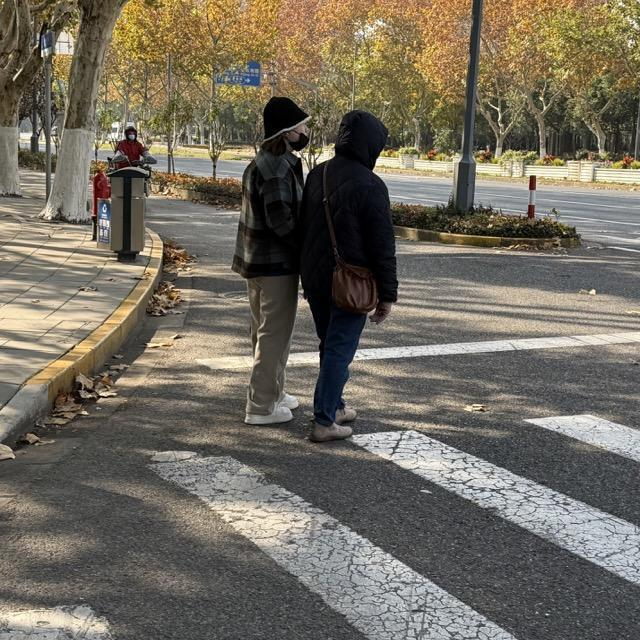curb: (0, 231, 162, 443), (396, 226, 576, 250), (150, 183, 239, 207)
